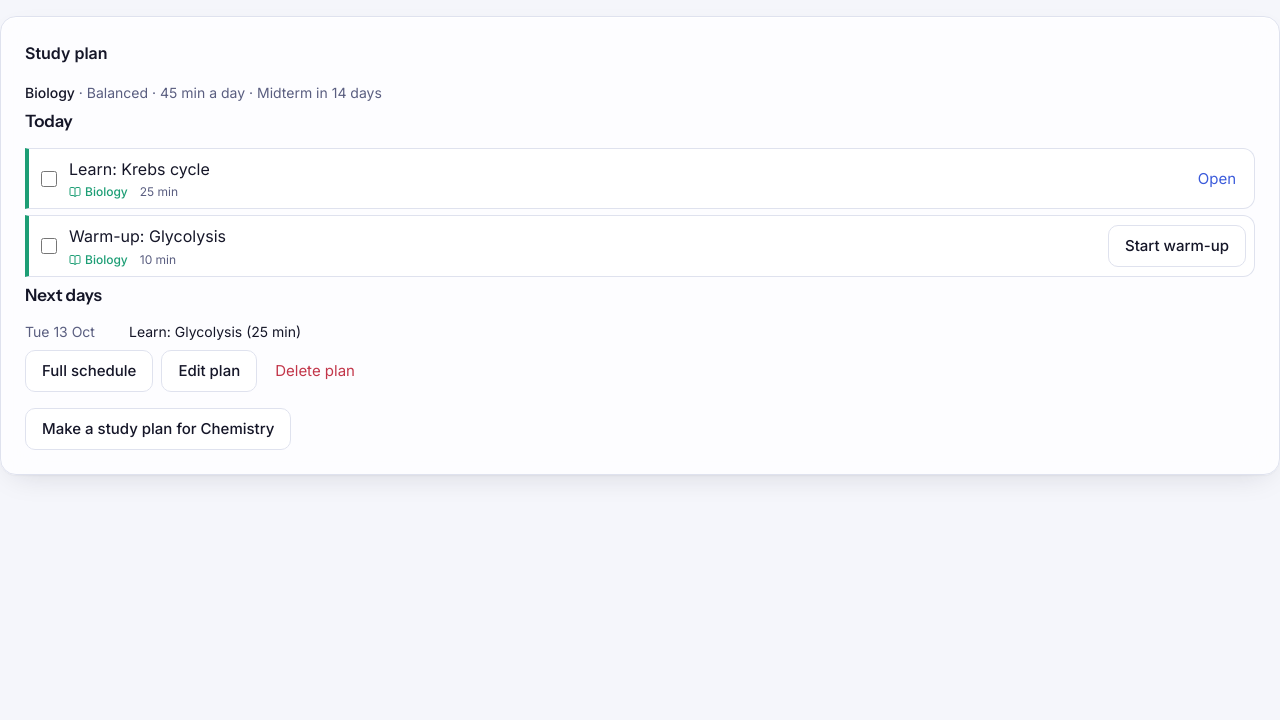
Scenario: Study plan panel › the full schedule shows every day, and hides again
expect the text "Revise: Krebs cycle (15 min)" is not shown: met
Click the button "Full schedule".
click(89, 371)  # box x1=25 y1=350 x2=153 y2=392
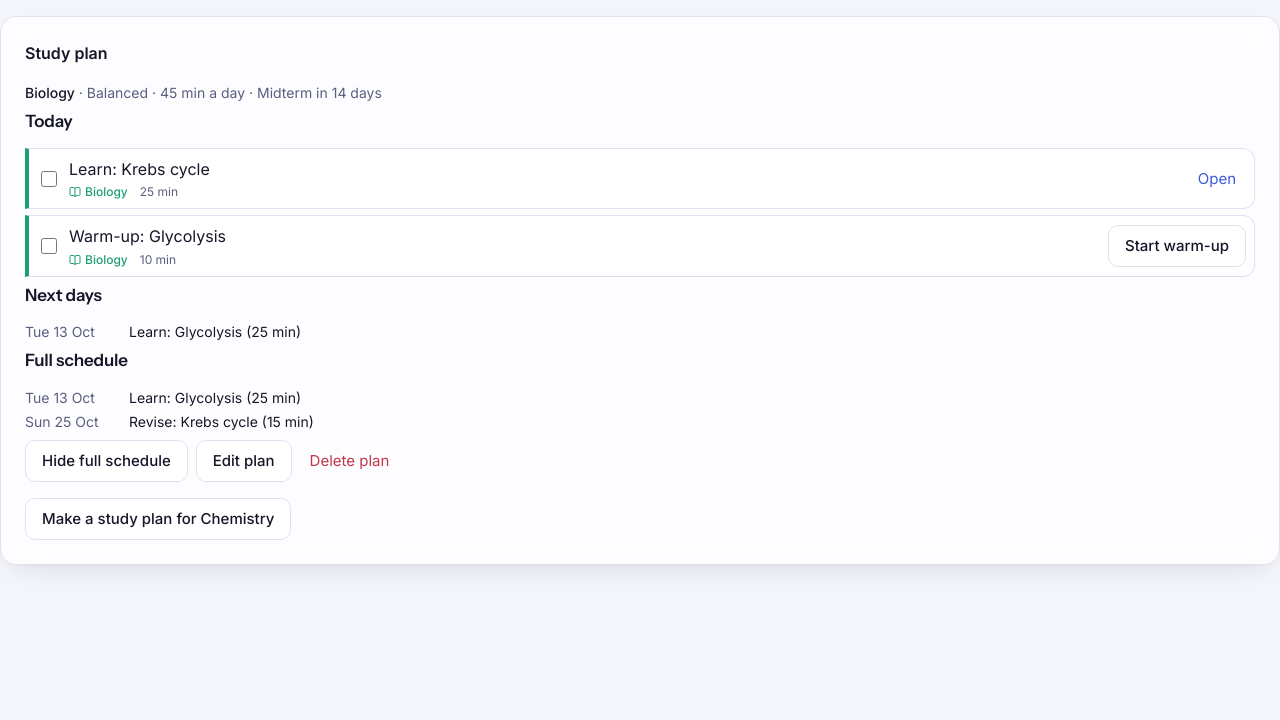
expect the text "Revise: Krebs cycle (15 min)" is shown: met, box x1=129 y1=412 x2=314 y2=432
Click the button "Hide full schedule".
click(106, 460)  # box x1=25 y1=440 x2=188 y2=482
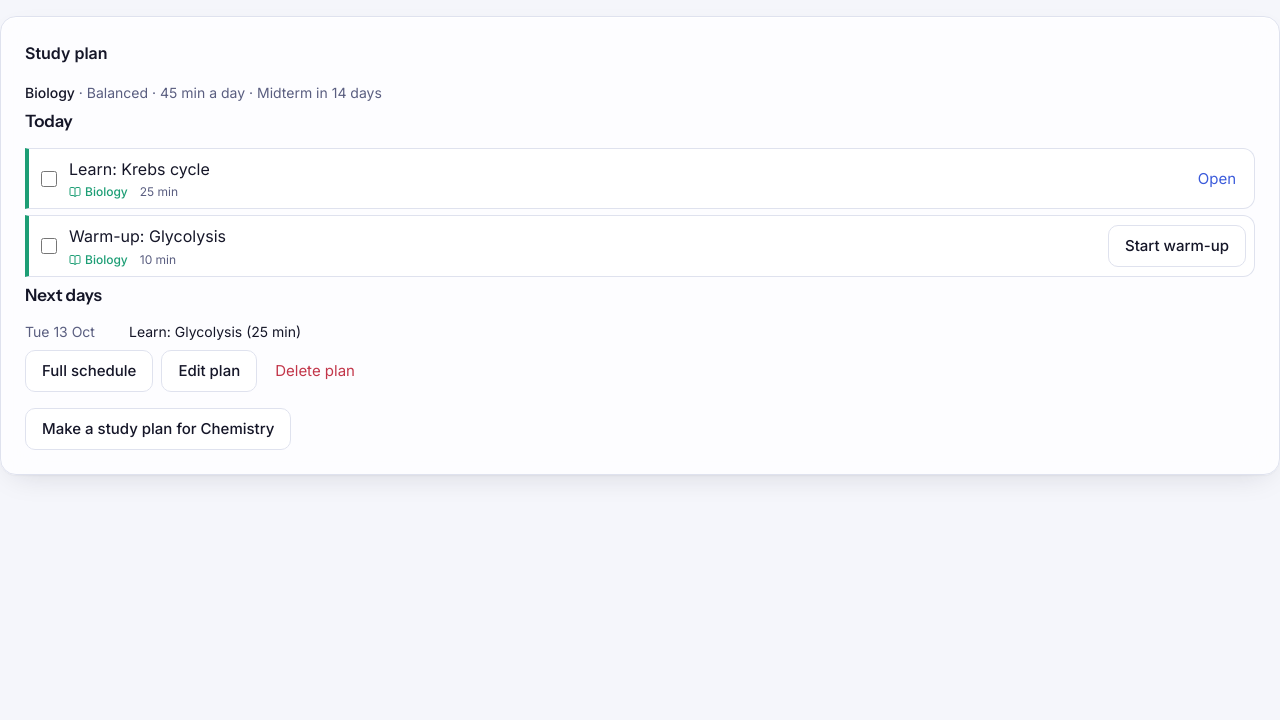
expect the text "Revise: Krebs cycle (15 min)" is gone: met
